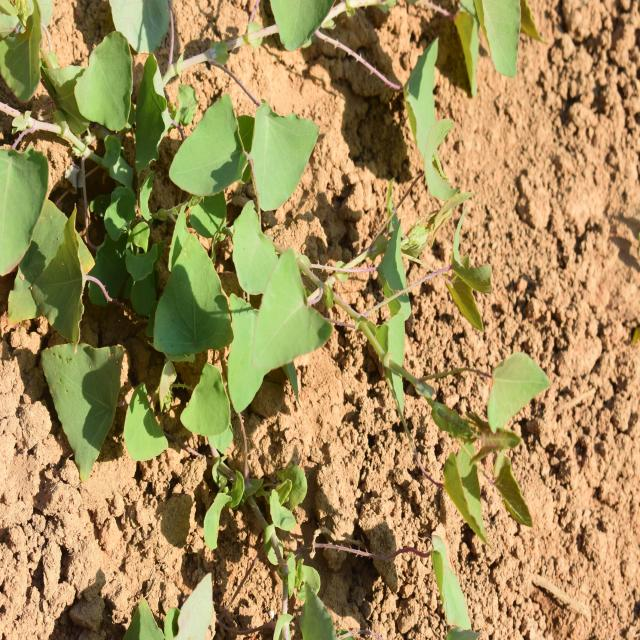Asiatic_Smartweed: (379, 162, 549, 547), (142, 203, 336, 420), (0, 79, 127, 328), (163, 81, 342, 203)
